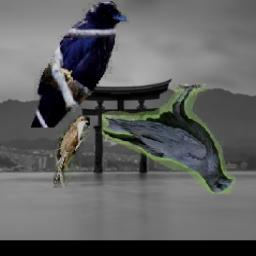Crow: (101, 85, 235, 195), (31, 1, 130, 128)
Cuckoo: (54, 116, 90, 189)
